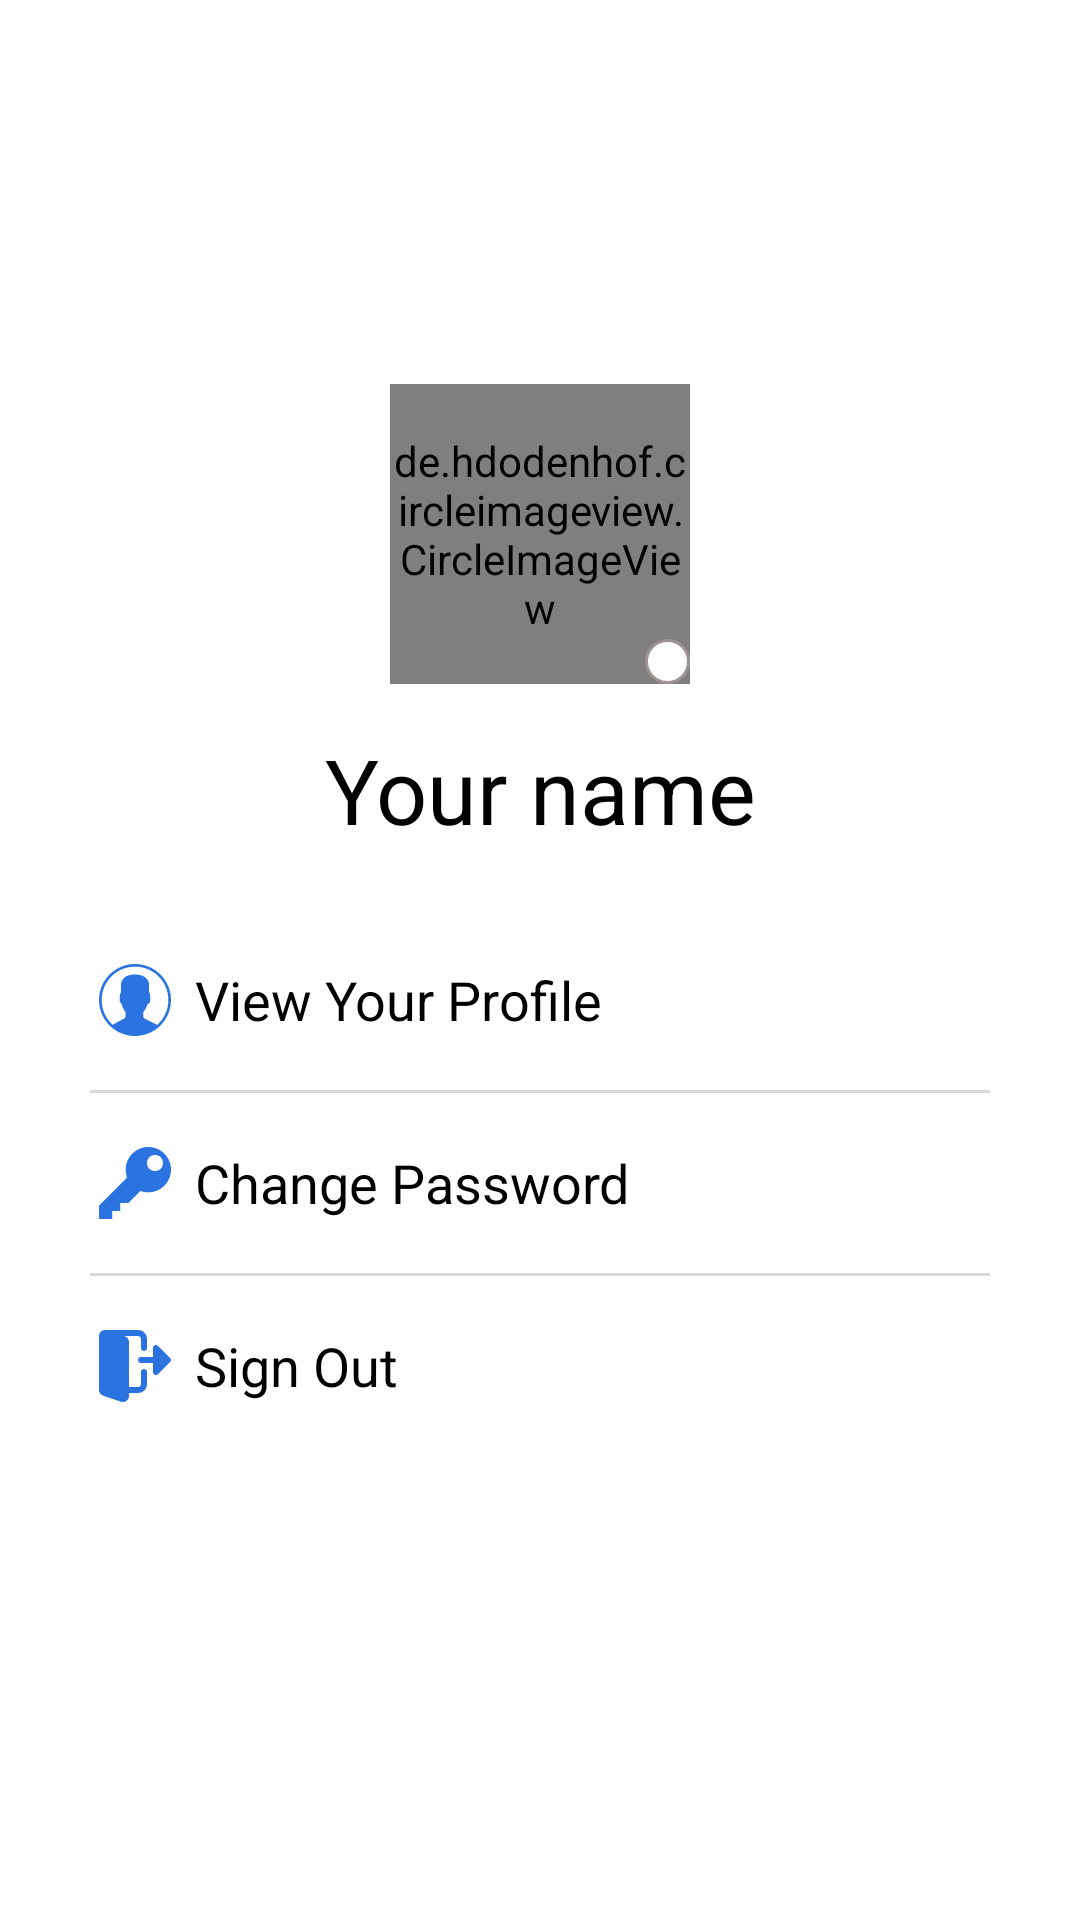

Named icons in this screenshot (1080w x 1920h) and their centers, (x=x, y=y):
key: (x=135, y=1183)
user: (x=135, y=1000)
